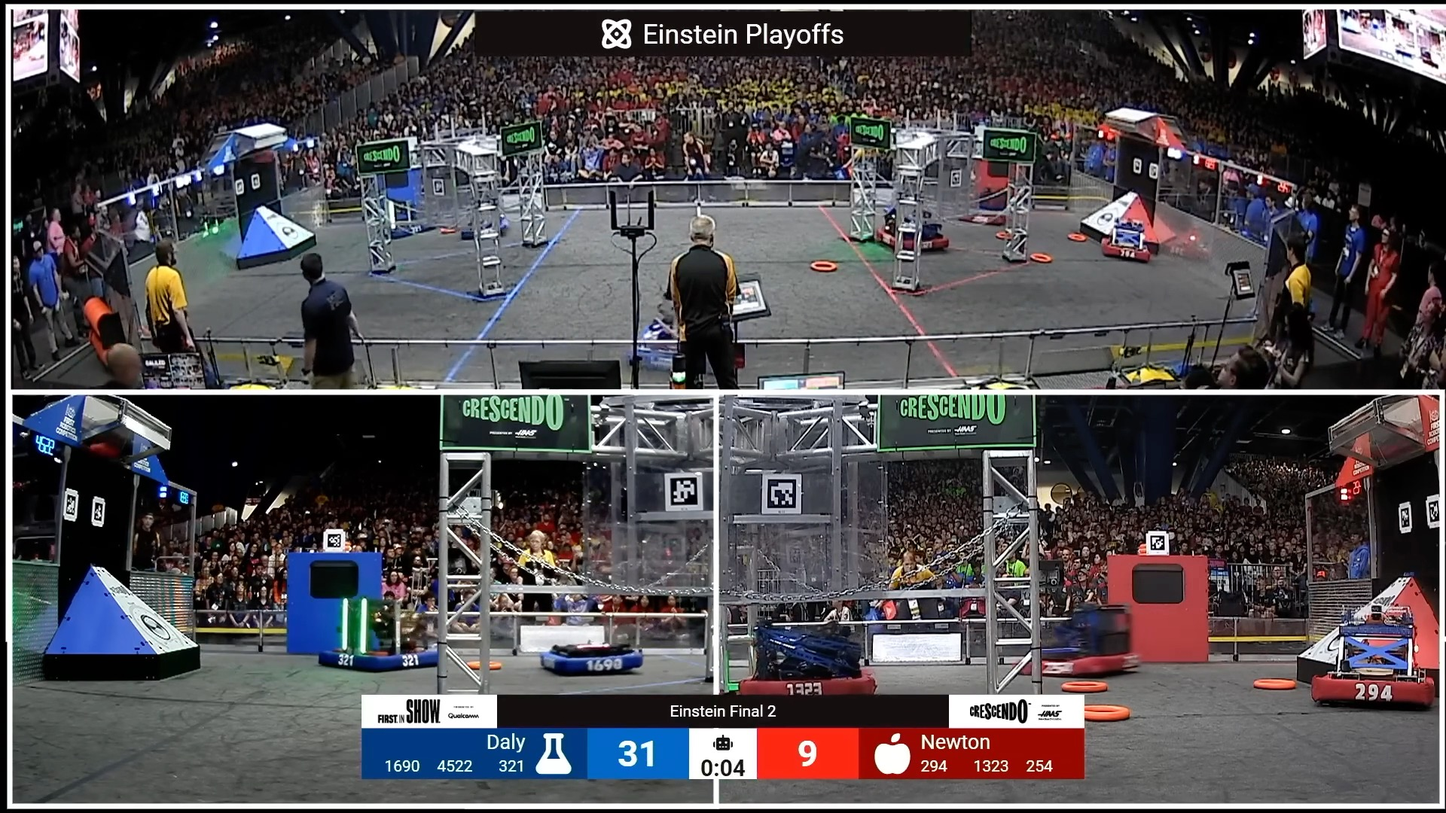bumpers: (307, 620, 451, 677), (1303, 669, 1438, 708), (529, 641, 650, 682), (728, 666, 886, 695), (868, 217, 960, 256), (1010, 656, 1147, 676), (1100, 241, 1154, 265), (459, 217, 513, 238), (959, 206, 1010, 223)
